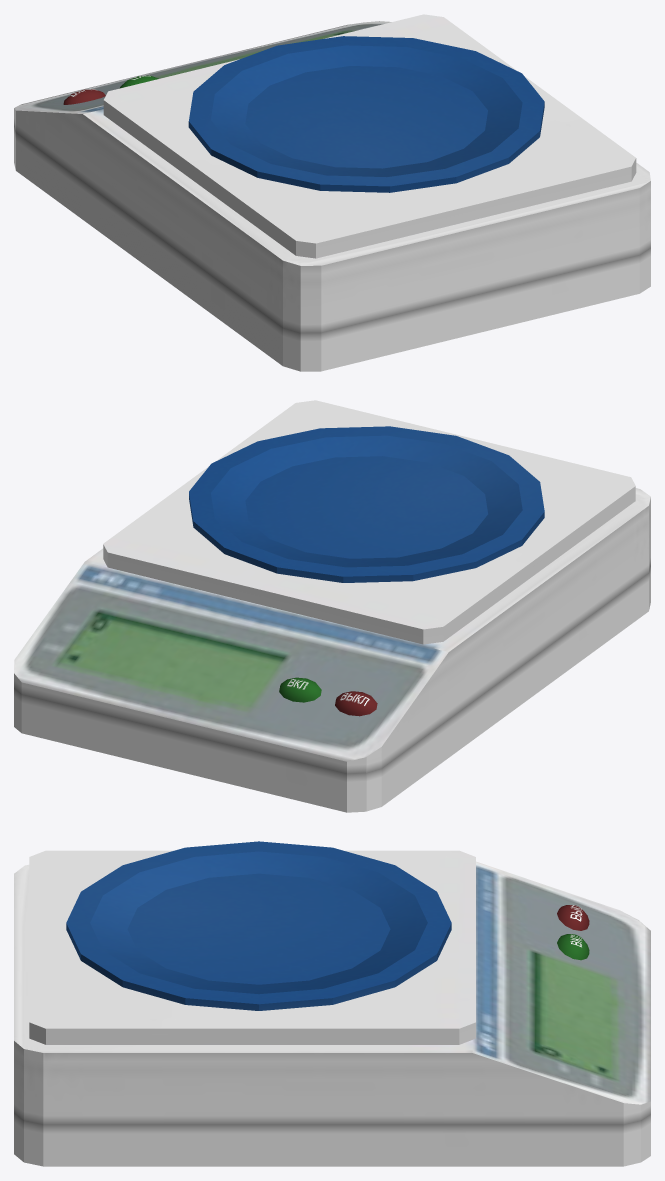
File: vesi.FBX
The picture shows the model from 3 angles, top to bottom: view 1: azimuth 30°, elevation 25°; view 2: azimuth 150°, elevation 25°; view 3: azimuth 270°, elevation 25°; orthographic projection. The views are drawn at different scales.
Visible parts, largest first — view 1: vesi; view 2: vesi; view 3: vesi.
Part boxes in pixels (x1,y1,x2,y2): vesi: (14,14,650,371); vesi: (14,400,650,812); vesi: (14,841,650,1166).
Size of the model in its own units: 1.17 by 0.4218 by 1.65.
